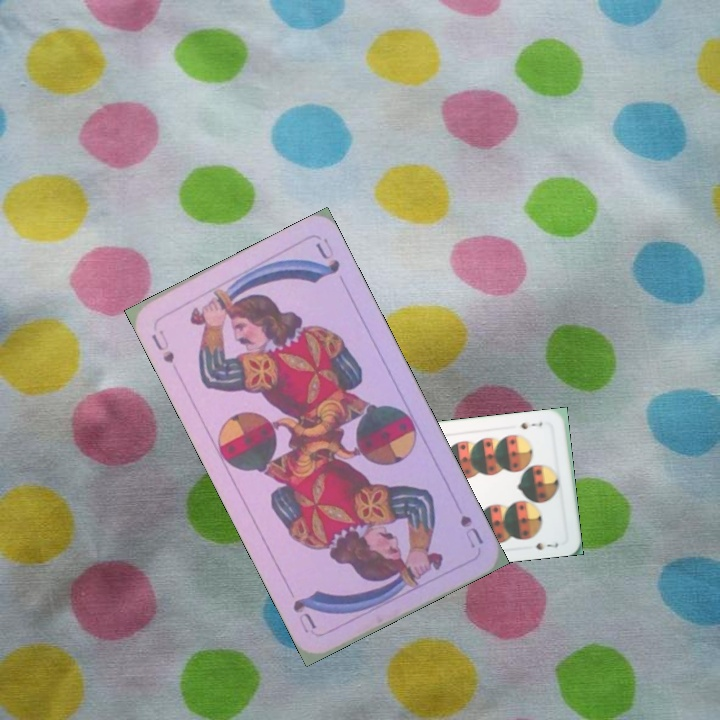S7: (516, 417, 545, 432)
SU: (147, 325, 177, 366), (456, 511, 486, 551)
